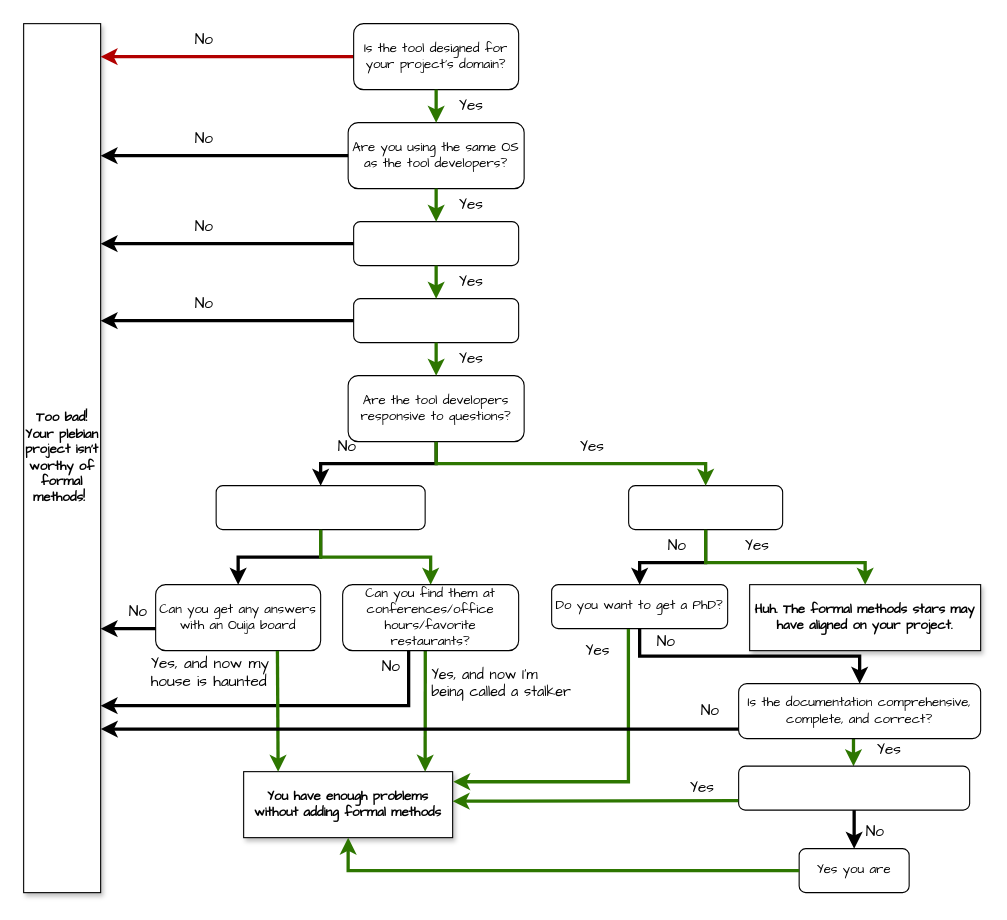
The diagram is 1007 pixels wide and 920 high, and some of its shapes have lost their labels. Here are the shapes that lost their labels. From the top down, the centre of each, then its label:
At point (436, 243): "Same language version?".
At point (436, 320): "Same libraries?".
At point (320, 507): "Are the tool developers still alive?".
At point (705, 507): "Did you do your PhD in formal methods?".
At point (854, 787): "Are you hallucinating or dreaming?".
